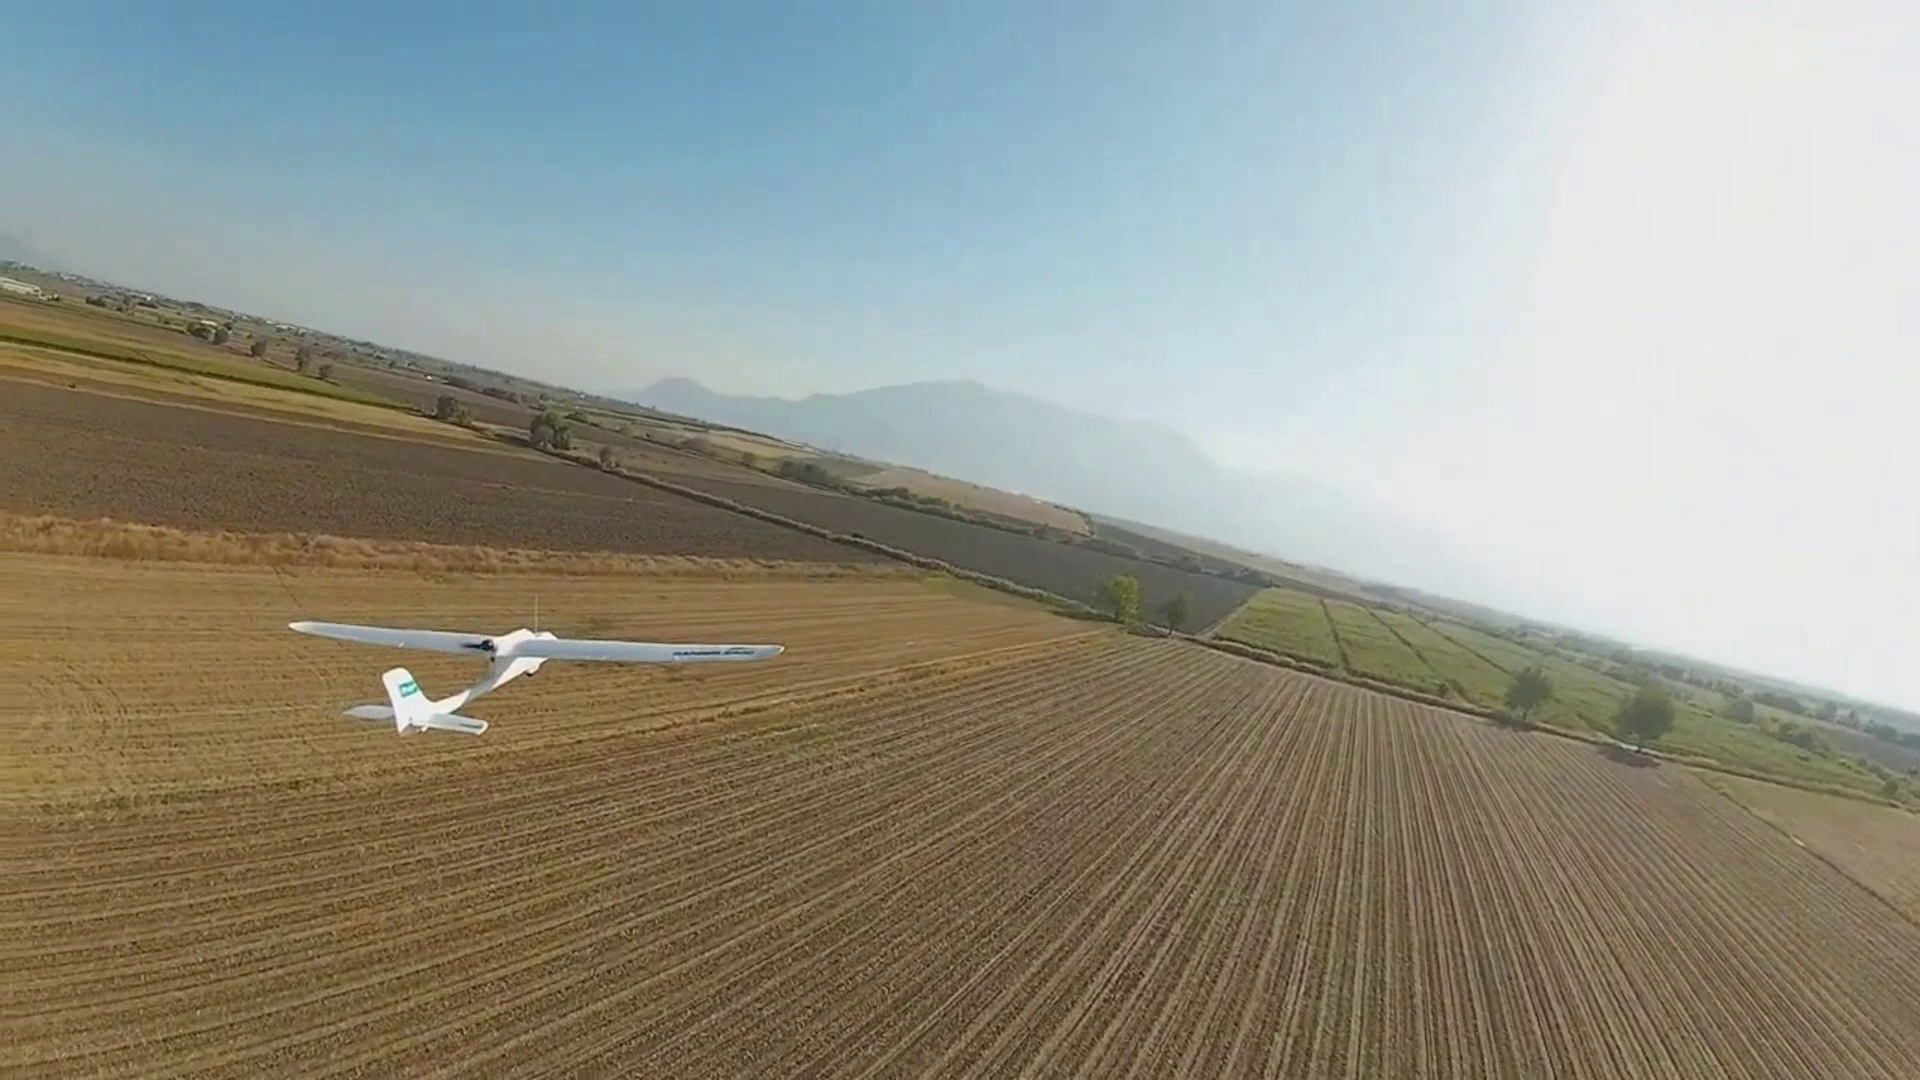airplane: (284, 618, 784, 738)
